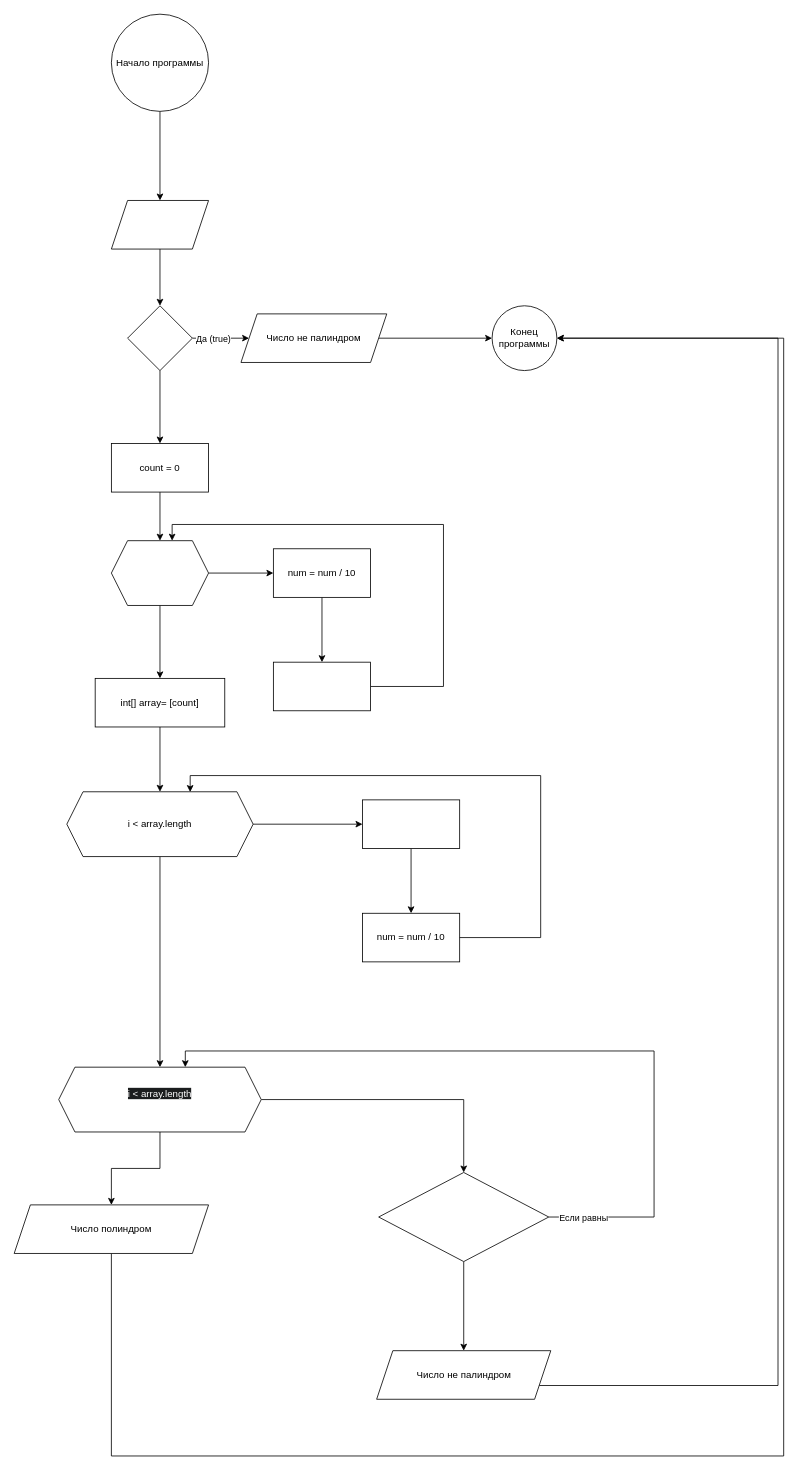
The diagram is 804 pixels wide and 1477 high, and some of its shapes have lost their labels. Here are the shapes that lost their labels. From the top down, the centre of each, then its label:
point (160, 224): num = 3223
point (159, 338): num == 0
point (160, 572): num != 0
point (322, 686): count++
point (411, 823): array[i] = num % 10
point (463, 1217): arra[i] == arra[ arra.length - i - 1]
